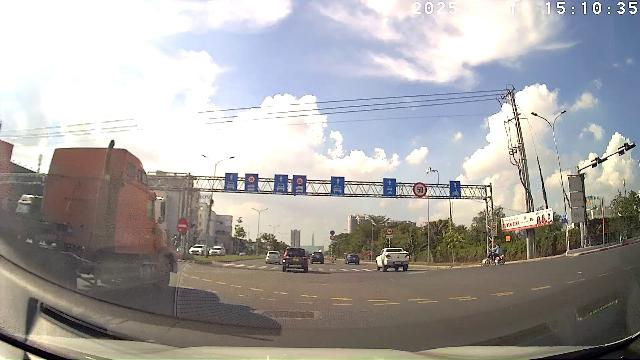127-toc-do-toi-da-50: (413, 182, 427, 197)
